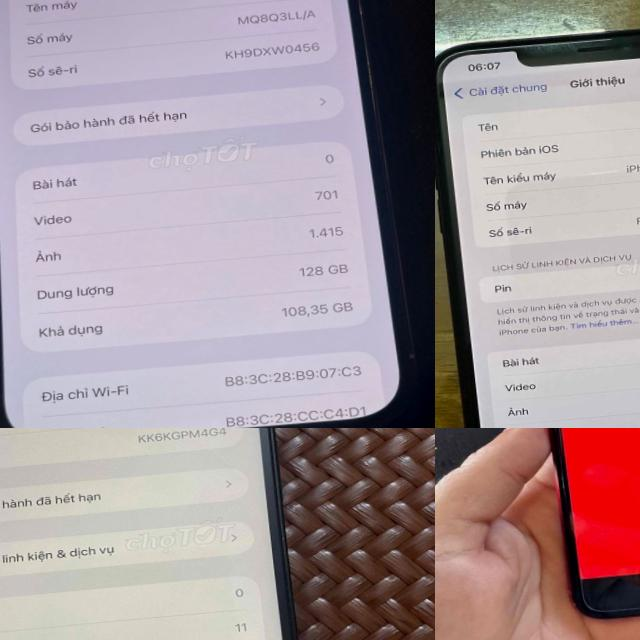scratch: (512, 23, 640, 65)
